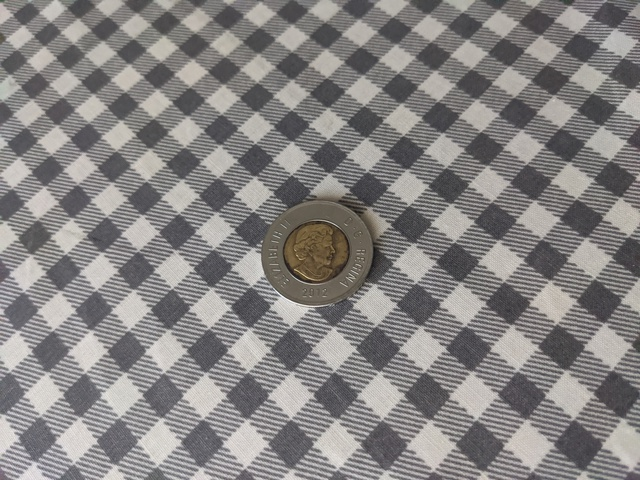twonie: (244, 188, 378, 304)
